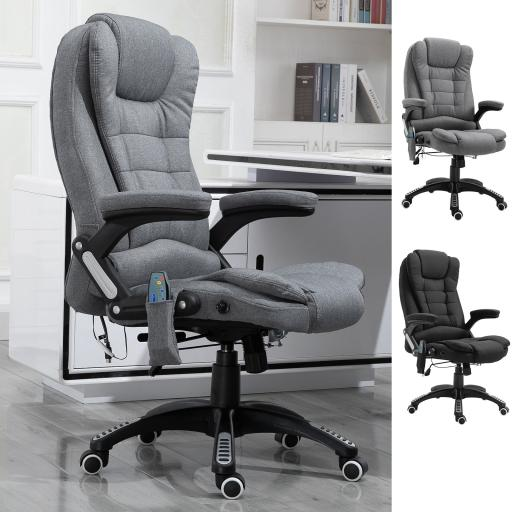chair: (50, 12, 371, 500), (400, 37, 508, 219), (399, 250, 510, 424)
desk: (12, 167, 394, 405)
